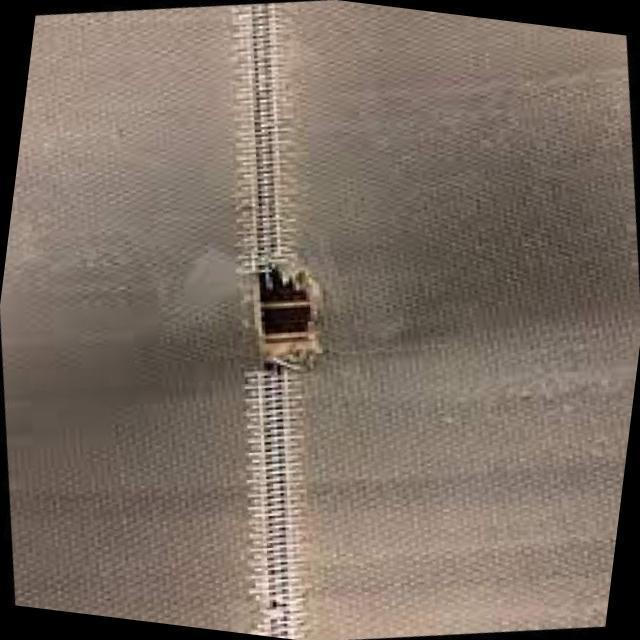Hole: (238, 255, 336, 382)
